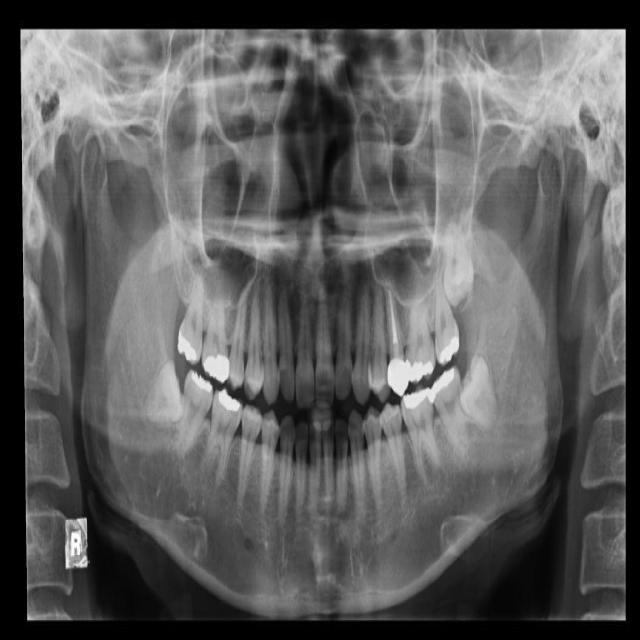52: (420, 359, 468, 412), (177, 366, 225, 414), (205, 385, 250, 430), (400, 335, 441, 384), (394, 381, 439, 424), (176, 316, 205, 366), (200, 339, 231, 383), (434, 318, 460, 367), (387, 354, 410, 396)
73: (385, 274, 403, 352), (604, 560, 609, 564)
BioHorizons Implant: (425, 257, 462, 367)
BioLife Implant: (441, 217, 476, 307)
Biomet 3i Implant: (452, 350, 502, 437)
Blue Sky Bio Implant: (426, 362, 480, 464)
Caries: (176, 267, 206, 367)
Implant: (175, 366, 217, 458)
Keystone Dental Implant: (142, 357, 188, 425)
